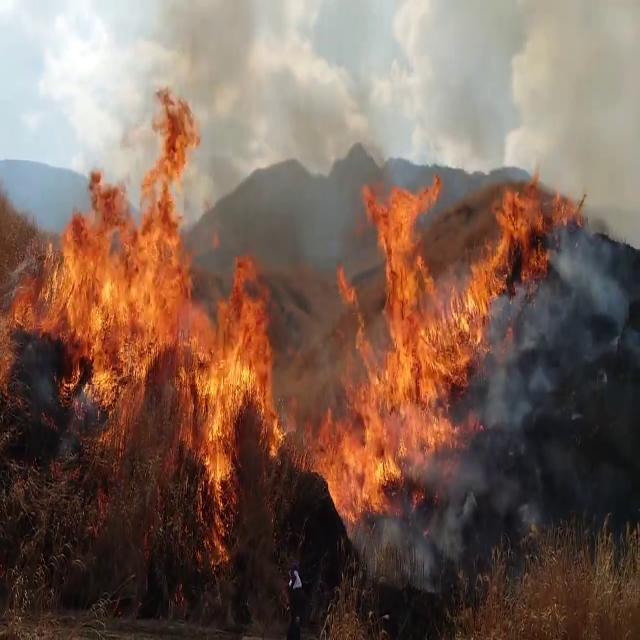Fire: (8, 92, 284, 520), (308, 135, 550, 524), (458, 152, 554, 360)
Smoke: (445, 225, 640, 550)
